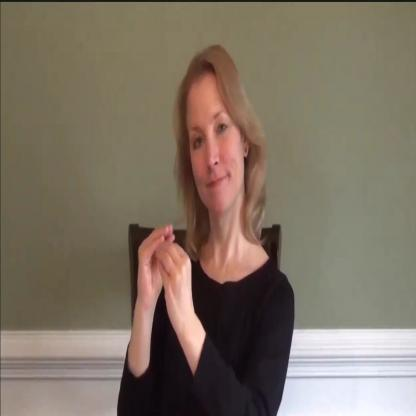Fix: (129, 207, 204, 345)
